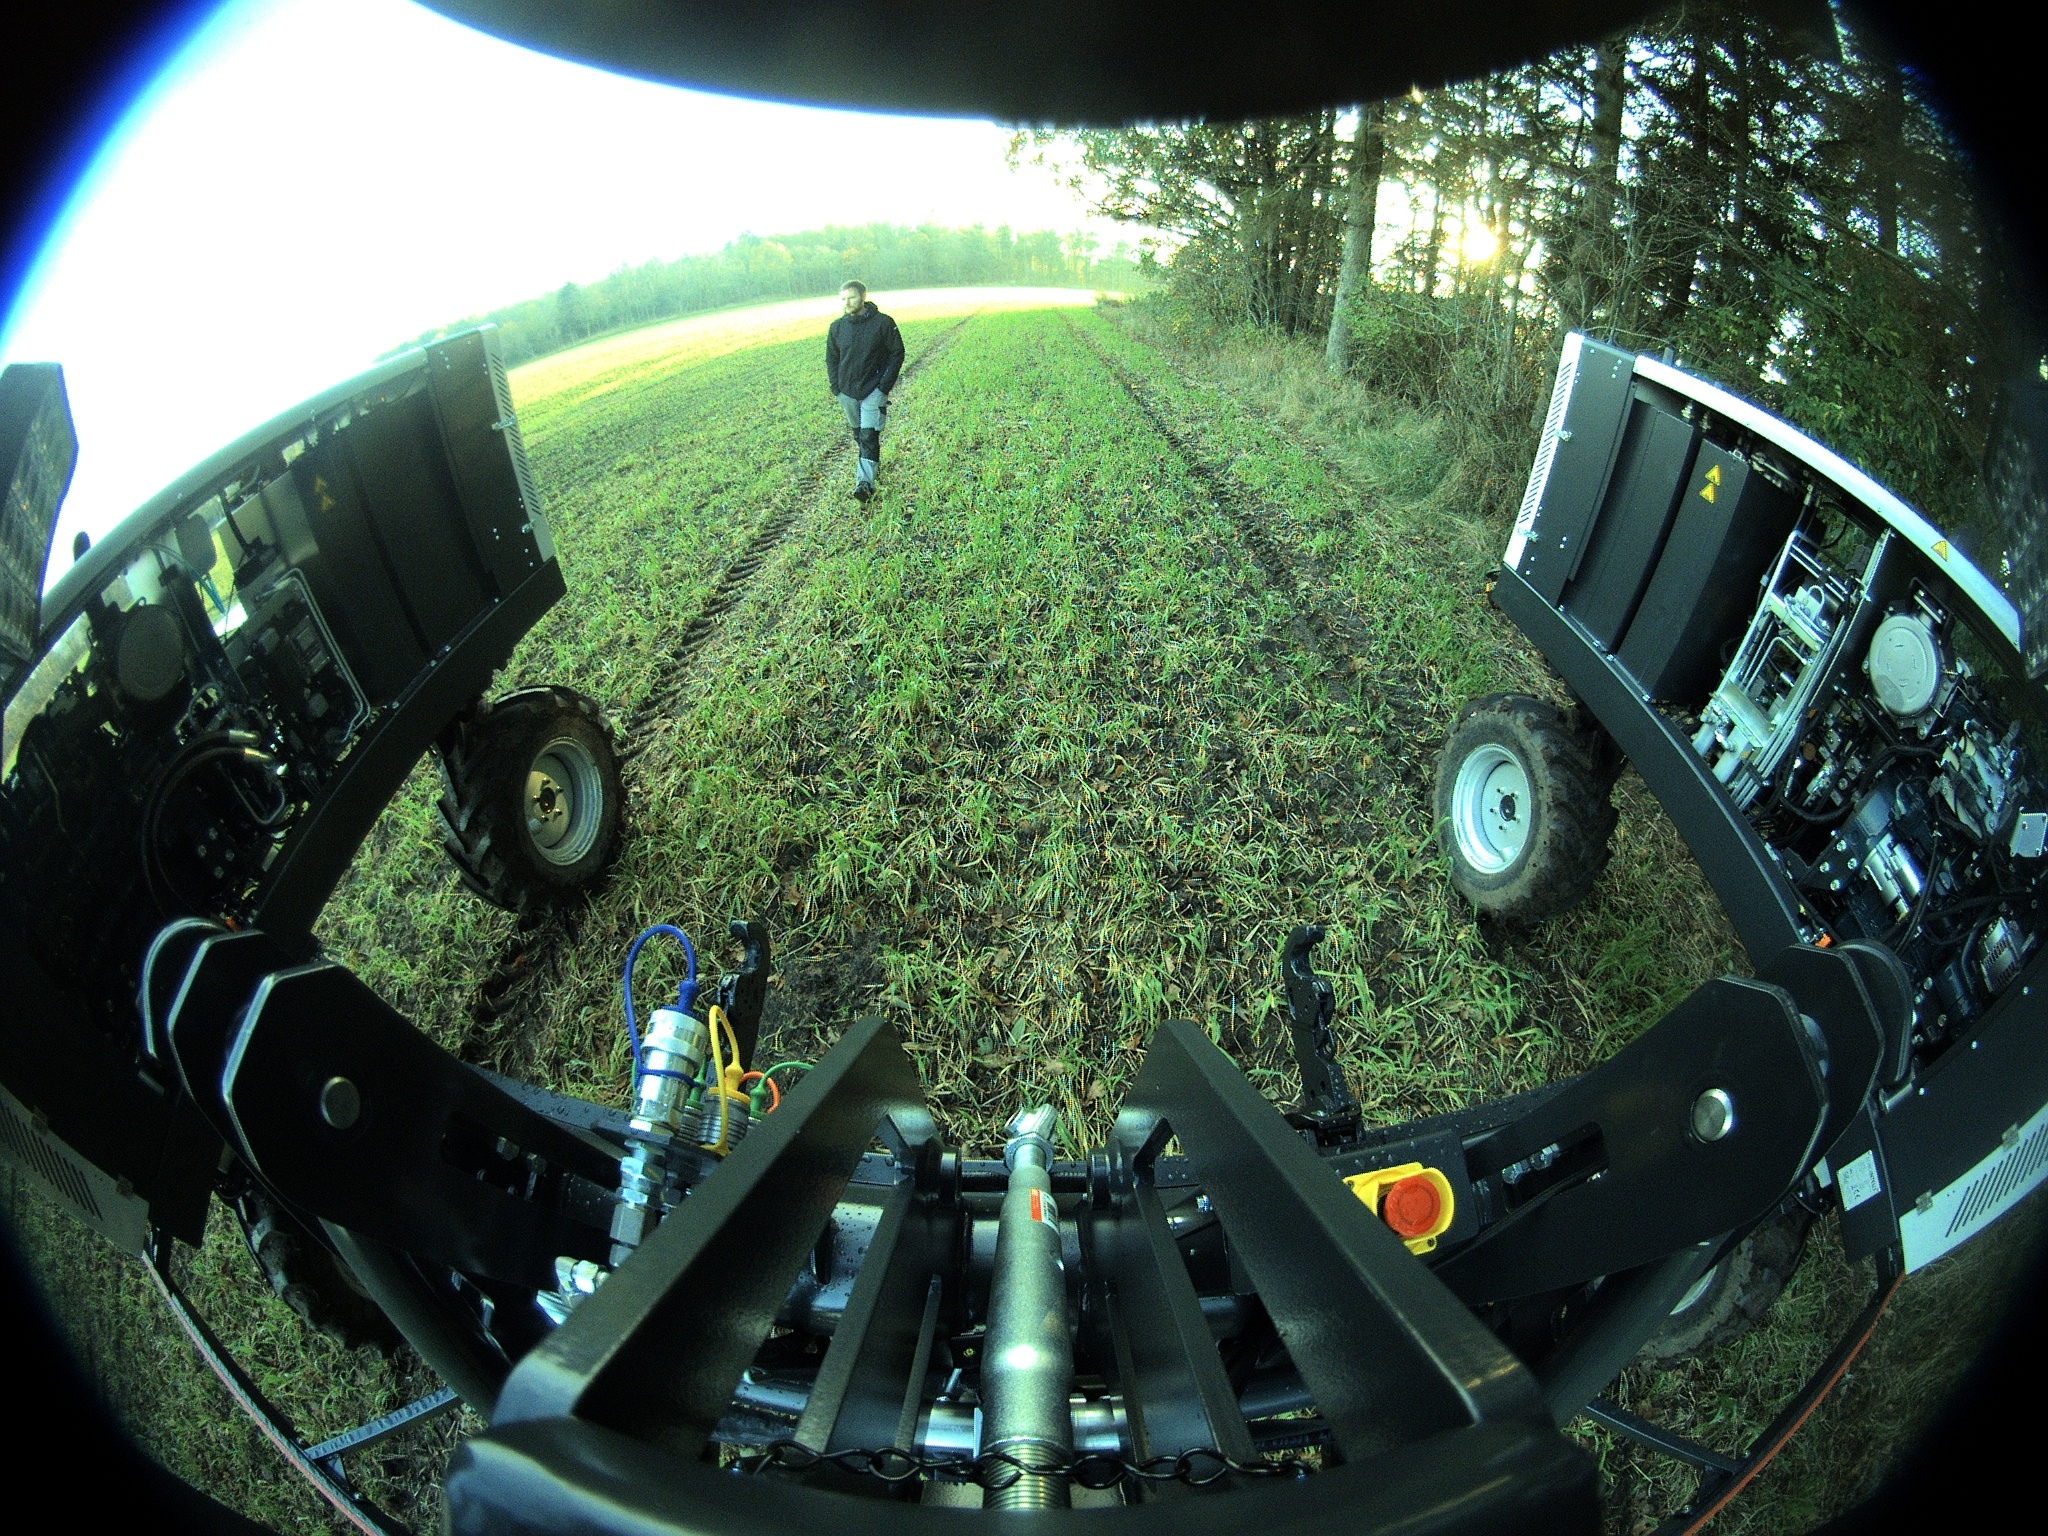person: (826, 280, 905, 502)
